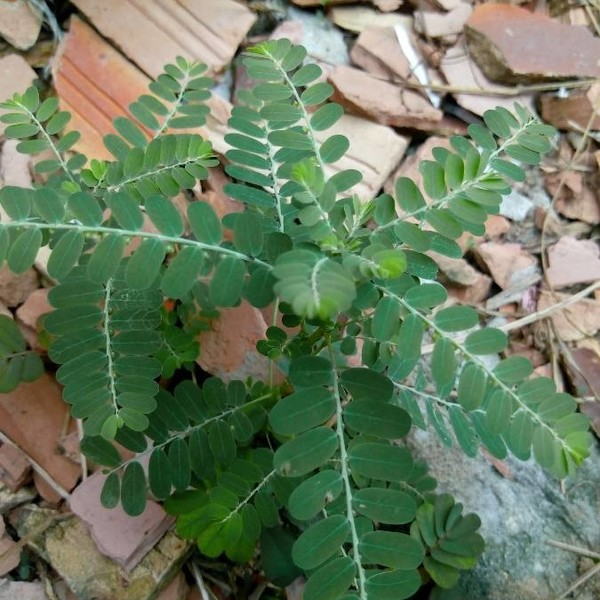obstacle: (40, 83, 522, 576)
